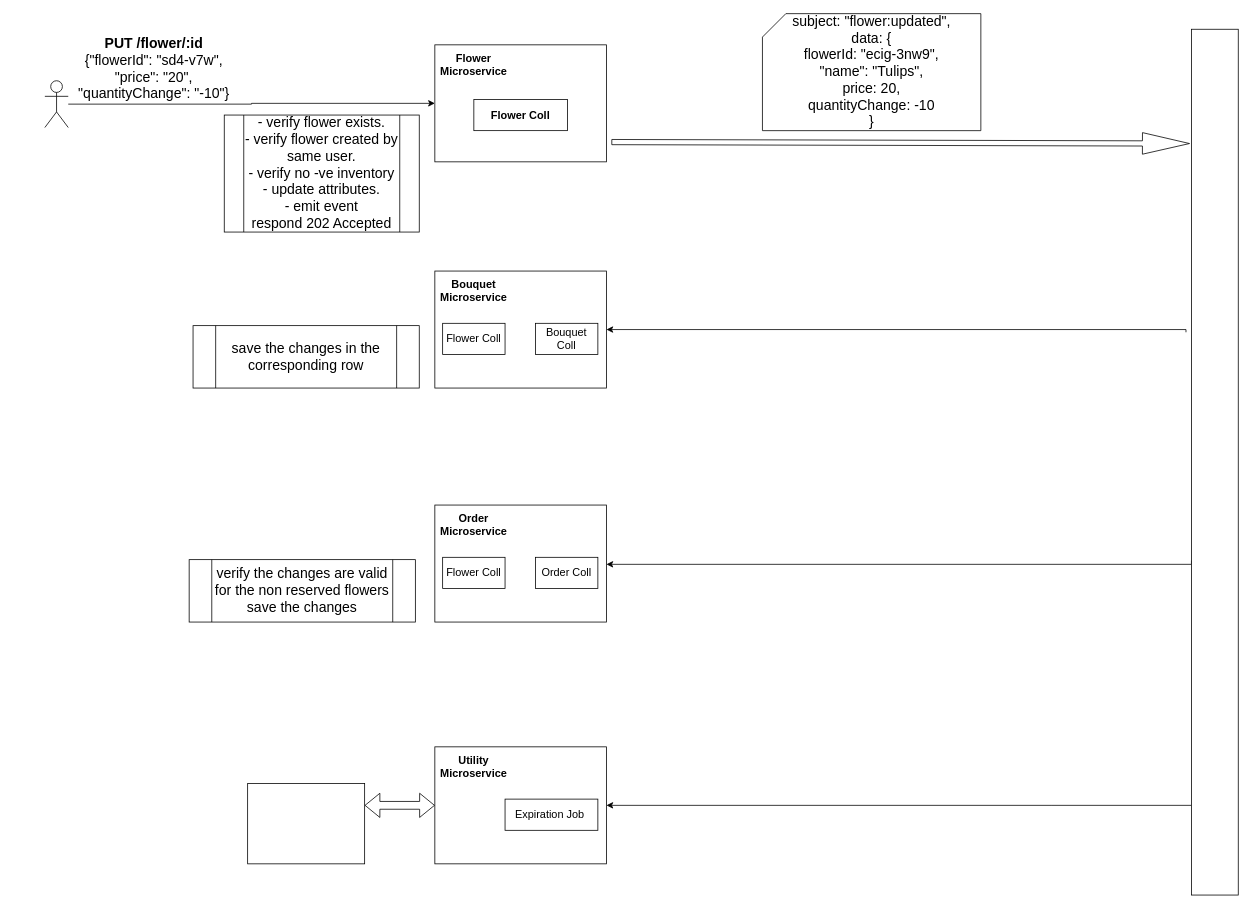
Some shapes in this 1252 by 909 pixel diagram are drawn without their labels. The centre of each missing label's shape, as x and y in pixels:
Actor: (x=56, y=104)
E V E N T B U S: (x=1214, y=461)
Redis in-mem: (x=306, y=823)
